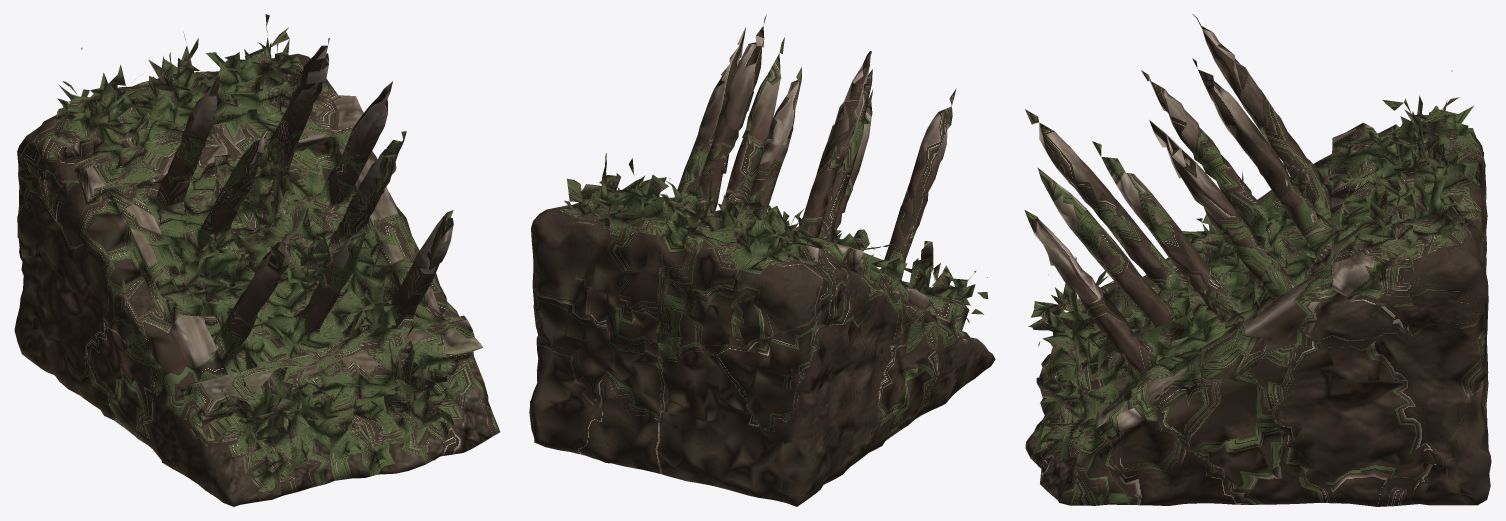
The model's file is spike-trap.glb.
3 views of the same model, side by side, from view 1: azimuth 30°, elevation 25°; view 2: azimuth 150°, elevation 25°; view 3: azimuth 270°, elevation 25° (orthographic). The views are drawn at different scales.
Bounding box in the file's own units: 1.43 × 1.72 × 1.85.
1 material, 1 textured.
